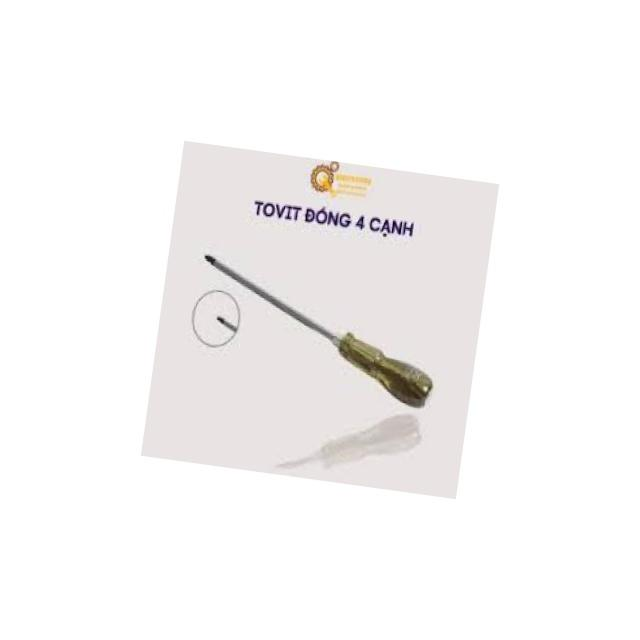screwdriver: (188, 254, 450, 412)
